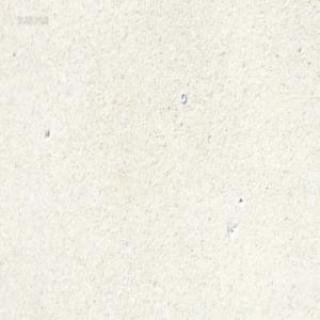Washertrack_idkeyframe: (180, 92, 187, 104)
